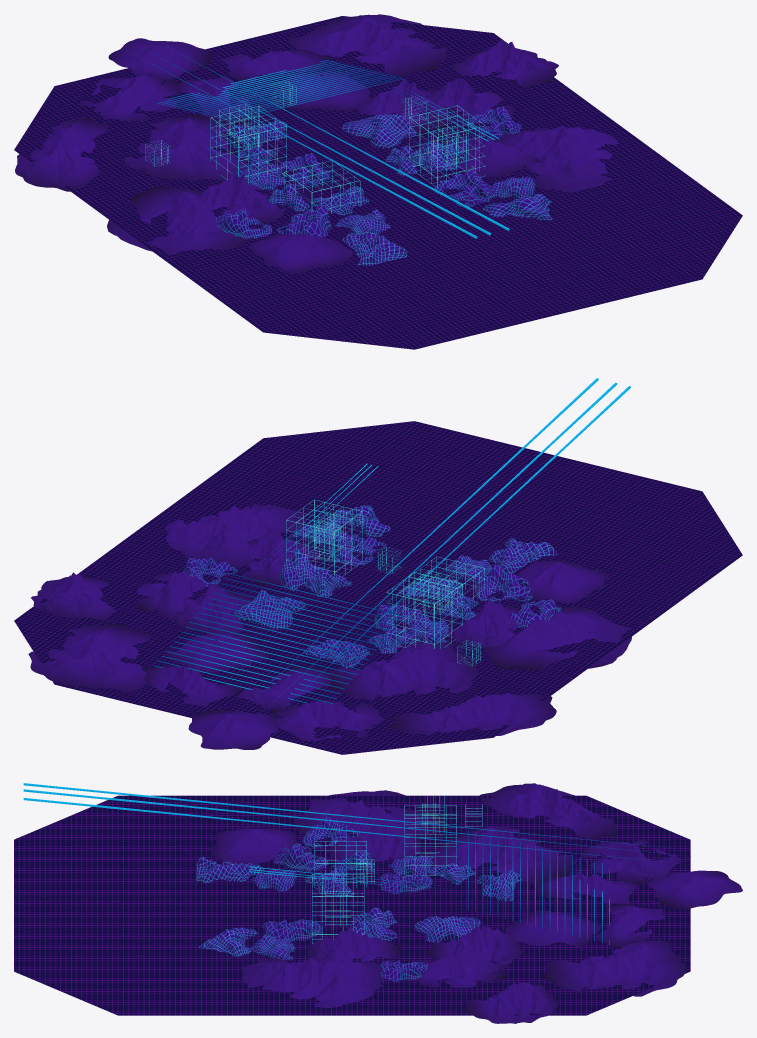
Rendered from Retro_Ground_comp.glb.
3 renders of one model, top to bottom at view 1: azimuth 30°, elevation 25°; view 2: azimuth 150°, elevation 25°; view 3: azimuth 270°, elevation 25°, orthographic. The views are drawn at different scales.
Parts seen in each view (by area): view 1: Retro_DiMian, Retro_ShanB9, Retro_ShanB6, Retro_ShanB15, Retro_ShanB16, Retro_Xian1, Retro_ShanB13, Retro_ShanB4, Retro_ShanB10, Retro_ShanB14, Retro_ShanB1, Retro_ShanB12 (+27 smaller); view 2: Retro_DiMian, Retro_ShanB6, Retro_ShanB9, Retro_ShanB15, Retro_ShanB16, Retro_Xian1, Retro_ShanB13, Retro_ShanB4, Retro_ShanB10, Retro_ShanB12, Retro_ShanB1, Retro_ShanB14 (+27 smaller); view 3: Retro_DiMian, Retro_ShanB9, Retro_ShanB15, Retro_ShanB6, Retro_ShanB13, Retro_ShanB16, Retro_Xian2, Retro_ShanB12, Retro_ShanB10, Retro_ShanB4, Retro_ShanB1, Retro_ShanB14 (+28 smaller).
Part boxes in pixels (bbox=[...]): Retro_DiMian: bbox=[14, 16, 742, 349]; Retro_ShanB9: bbox=[289, 14, 447, 76]; Retro_ShanB6: bbox=[124, 115, 249, 184]; Retro_ShanB15: bbox=[493, 126, 618, 192]; Retro_ShanB16: bbox=[107, 186, 250, 255]; Retro_Xian1: bbox=[157, 59, 404, 121]; Retro_ShanB13: bbox=[15, 117, 107, 191]; Retro_ShanB4: bbox=[80, 74, 180, 121]; Retro_ShanB10: bbox=[108, 38, 212, 79]; Retro_ShanB14: bbox=[250, 233, 353, 273]; Retro_ShanB1: bbox=[279, 70, 369, 110]; Retro_ShanB12: bbox=[451, 40, 558, 87]; Retro_DiMian: bbox=[14, 421, 742, 754]; Retro_ShanB6: bbox=[329, 641, 477, 701]; Retro_ShanB9: bbox=[28, 623, 151, 694]; Retro_ShanB15: bbox=[165, 503, 309, 566]; Retro_ShanB16: bbox=[485, 606, 631, 670]; Retro_Xian1: bbox=[154, 573, 404, 703]; Retro_ShanB13: bbox=[389, 693, 556, 735]; Retro_ShanB4: bbox=[270, 700, 385, 742]; Retro_ShanB10: bbox=[188, 709, 278, 749]; Retro_ShanB12: bbox=[31, 572, 116, 621]; Retro_ShanB1: bbox=[167, 632, 269, 673]; Retro_ShanB14: bbox=[519, 560, 608, 603]; Retro_DiMian: bbox=[14, 795, 690, 1015]; Retro_ShanB9: bbox=[543, 940, 686, 996]; Retro_ShanB15: bbox=[241, 957, 383, 1007]; Retro_ShanB6: bbox=[422, 826, 575, 883]; Retro_ShanB13: bbox=[479, 783, 617, 839]; Retro_ShanB16: bbox=[294, 790, 448, 840]; Retro_Xian2: bbox=[23, 783, 682, 863]; Retro_ShanB12: bbox=[465, 982, 557, 1023]; Retro_ShanB10: bbox=[648, 870, 742, 909]; Retro_ShanB4: bbox=[581, 839, 682, 884]; Retro_ShanB1: bbox=[505, 910, 600, 946]; Retro_ShanB14: bbox=[212, 827, 299, 864].
Bounding box in the file's own units: 5.42 × 1.17 × 7.
Materials: 2 (2 with a texture image).
